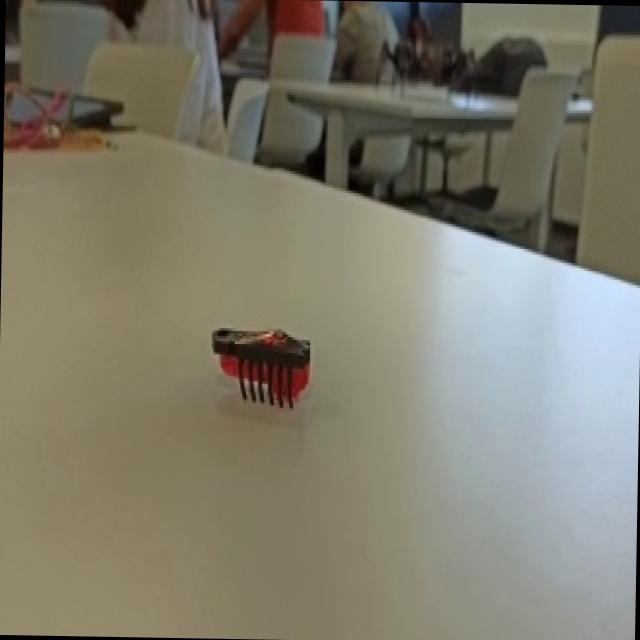2_NanoBug_Negro: (198, 300, 334, 440)
